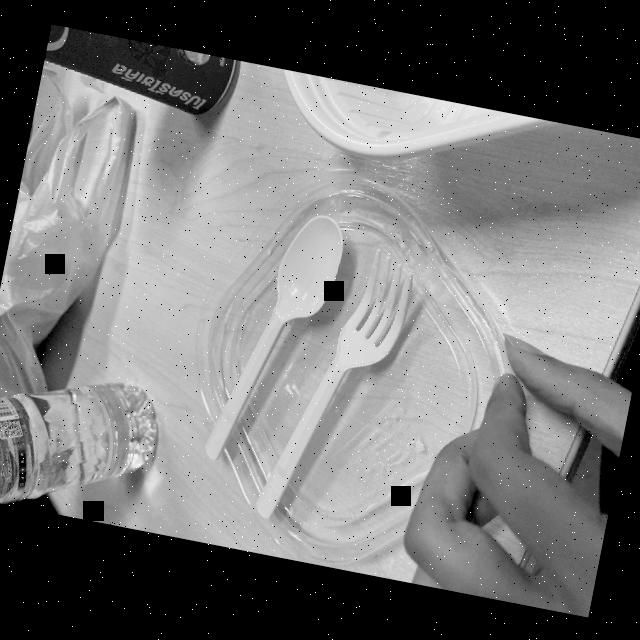plastic_cultery: (236, 228, 428, 549), (198, 192, 352, 481)
